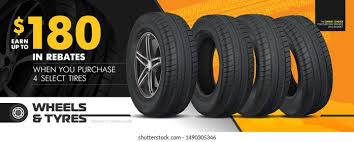tire: (126, 12, 197, 117), (190, 13, 254, 117), (275, 15, 333, 117), (235, 14, 291, 117)
